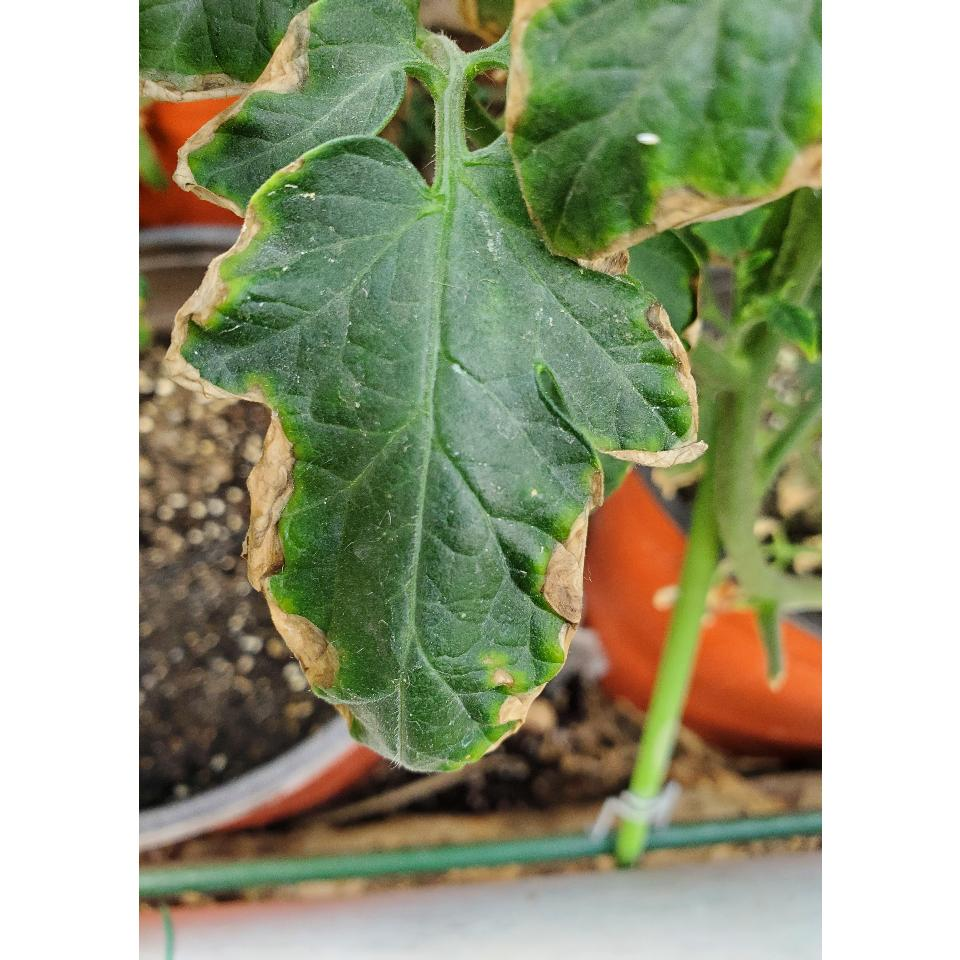tomato_bacterial_blight: (162, 137, 708, 780), (494, 1, 822, 278), (138, 3, 448, 229)
